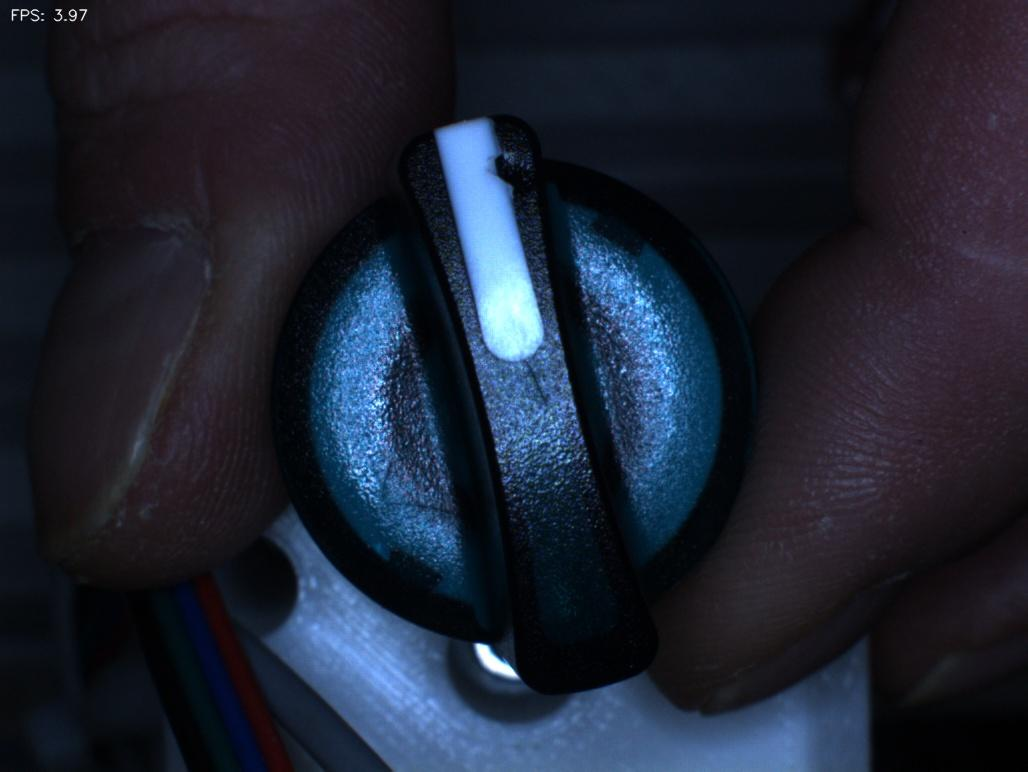Choc: (446, 115, 552, 220)
